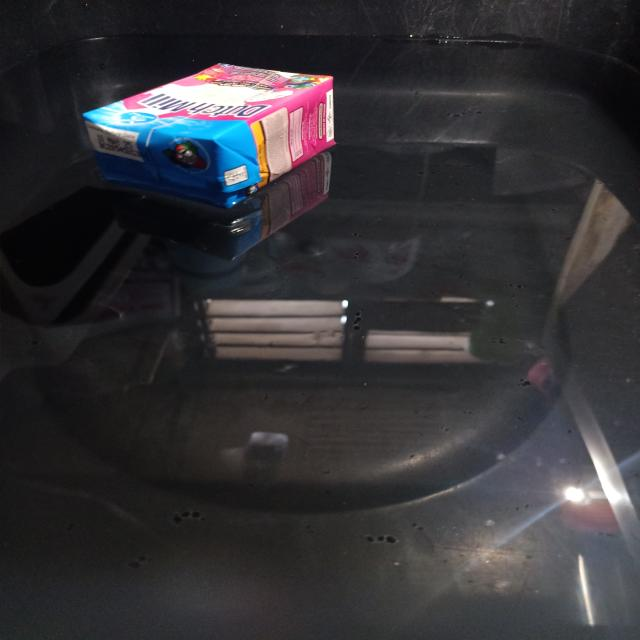Cardboard Box: (83, 64, 335, 208)
